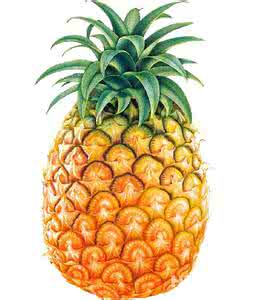pineapple: (46, 6, 213, 300)
